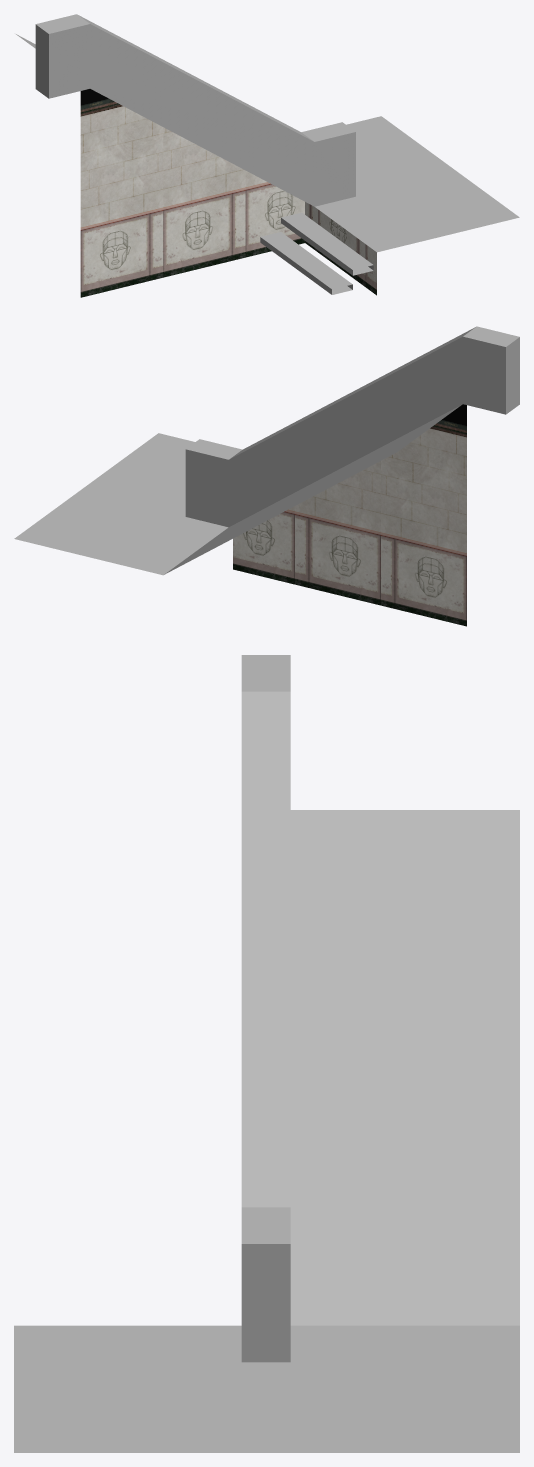
Rendered from Stairs_02_Art.fbx.
3 views of the same model, one above another, from view 1: azimuth 30°, elevation 25°; view 2: azimuth 150°, elevation 25°; view 3: azimuth 270°, elevation 25° (orthographic). The views are drawn at different scales.
Visible parts, largest first — view 1: Stairs_01_Floor, Stairs_01_Railing; view 2: Stairs_01_Floor, Stairs_01_Railing; view 3: Stairs_01_Floor, Stairs_01_Railing.
Boxes of the visible parts, x1,y1,x2,y2 form: Stairs_01_Floor: [16, 34, 519, 297]; Stairs_01_Railing: [35, 14, 355, 206]; Stairs_01_Floor: [14, 404, 466, 626]; Stairs_01_Railing: [185, 326, 519, 527]; Stairs_01_Floor: [14, 810, 519, 1452]; Stairs_01_Railing: [241, 655, 290, 1362].
Bounding box in the file's own units: 990 × 650 × 581.
